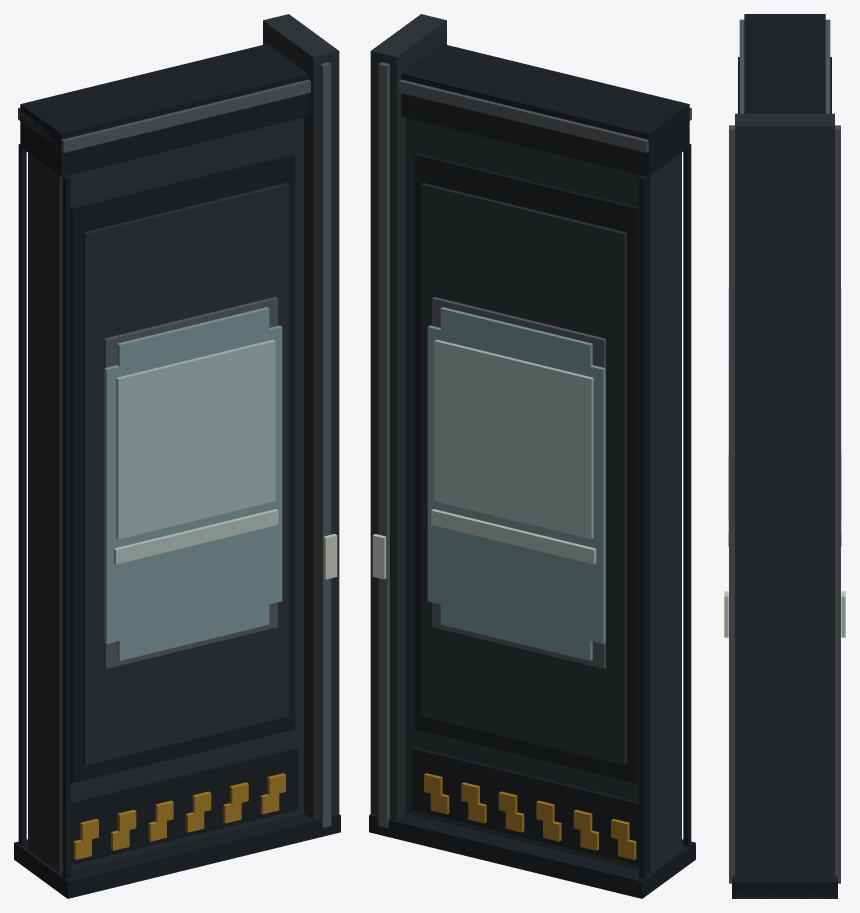
Rendered from CMU3DPairedAlmayerGlass.glb.
3 views of the same model, side by side, from view 1: azimuth 30°, elevation 25°; view 2: azimuth 150°, elevation 25°; view 3: azimuth 270°, elevation 25° (orthographic).
Visible parts, largest first — view 1: inner face panel, single closed door leaf, pale upper reflection, chamfered window center, outer door jamb, leaf recessed face, continuous top track, meeting edge seal (×2), lower hazard band, outer jamb highlight, threshold, top track lip (+5 smaller); view 2: inner face panel back, single closed door leaf, pale upper reflection back, chamfered window center back, outer door jamb, leaf recessed face back, continuous top track, meeting edge seal (×2), lower hazard band back, outer jamb highlight, threshold, chamfered window upper shoulder back (+5 smaller); view 3: outer door jamb, outer jamb highlight (×2), continuous top track, threshold, top track lip.
Boxes of the visible parts, x1,y1,x2,y2 form: inner face panel: [83, 183, 288, 765]; single closed door leaf: [28, 118, 303, 872]; pale upper reflection: [116, 339, 275, 539]; chamfered window center: [104, 325, 282, 643]; outer door jamb: [263, 14, 339, 820]; leaf recessed face: [71, 153, 295, 783]; continuous top track: [20, 44, 308, 176]; meeting edge seal (×2): [18, 144, 70, 878]; lower hazard band: [71, 747, 297, 865]; outer jamb highlight: [320, 62, 331, 827]; threshold: [14, 813, 340, 898]; top track lip: [18, 79, 310, 152]; inner face panel back: [421, 183, 626, 765]; single closed door leaf: [406, 118, 681, 872]; pale upper reflection back: [434, 339, 593, 539]; chamfered window center back: [427, 325, 605, 643]; outer door jamb: [370, 14, 446, 820]; leaf recessed face back: [414, 153, 638, 783]; continuous top track: [401, 44, 689, 176]; meeting edge seal (×2): [639, 144, 691, 878]; lower hazard band back: [412, 747, 638, 865]; outer jamb highlight: [378, 62, 389, 827]; threshold: [369, 813, 695, 898]; chamfered window upper shoulder back: [440, 307, 592, 366]; outer door jamb: [735, 113, 834, 898]; outer jamb highlight (×2): [729, 125, 840, 883]; continuous top track: [744, 14, 825, 113]; threshold: [732, 876, 837, 898]; top track lip: [739, 19, 830, 113].
Size of the model in its own units: 1 by 2.73 by 0.388.
